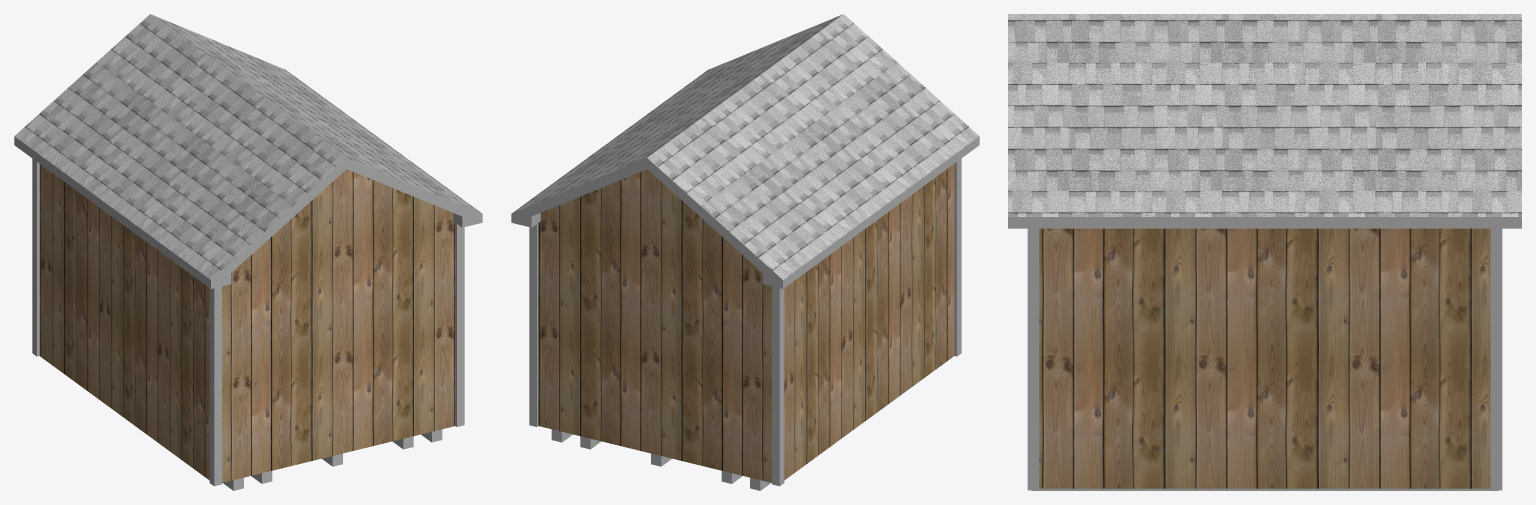
File: Classic A-Frame_8x10.obj
3 renders of one model, left to right at view 1: azimuth 30°, elevation 25°; view 2: azimuth 150°, elevation 25°; view 3: azimuth 270°, elevation 25°, orthographic. The views are drawn at different scales.
Parts seen in each view (by area): view 1: Shed, Roof, Trim, Sides, Floor; view 2: Shed, Roof, Trim, Sides, Floor; view 3: Shed, Roof, Trim, Sides, Floor.
Part boxes in pixels (left/top/right/bottom): Shed: left=39, top=164, right=455, bottom=482; Roof: left=14, top=14, right=481, bottom=279; Trim: left=32, top=158, right=464, bottom=486; Sides: left=14, top=136, right=482, bottom=288; Floor: left=223, top=429, right=442, bottom=490; Shed: left=538, top=164, right=954, bottom=482; Roof: left=512, top=14, right=979, bottom=279; Trim: left=529, top=158, right=961, bottom=486; Sides: left=511, top=136, right=979, bottom=288; Floor: left=551, top=429, right=770, bottom=490; Shed: left=1039, top=228, right=1490, bottom=488; Roof: left=1008, top=14, right=1521, bottom=216; Trim: left=1027, top=228, right=1502, bottom=490; Sides: left=1008, top=217, right=1521, bottom=228; Floor: left=1031, top=488, right=1498, bottom=490.
Size of the model in its own units: 2.68 by 2.96 by 3.35.
